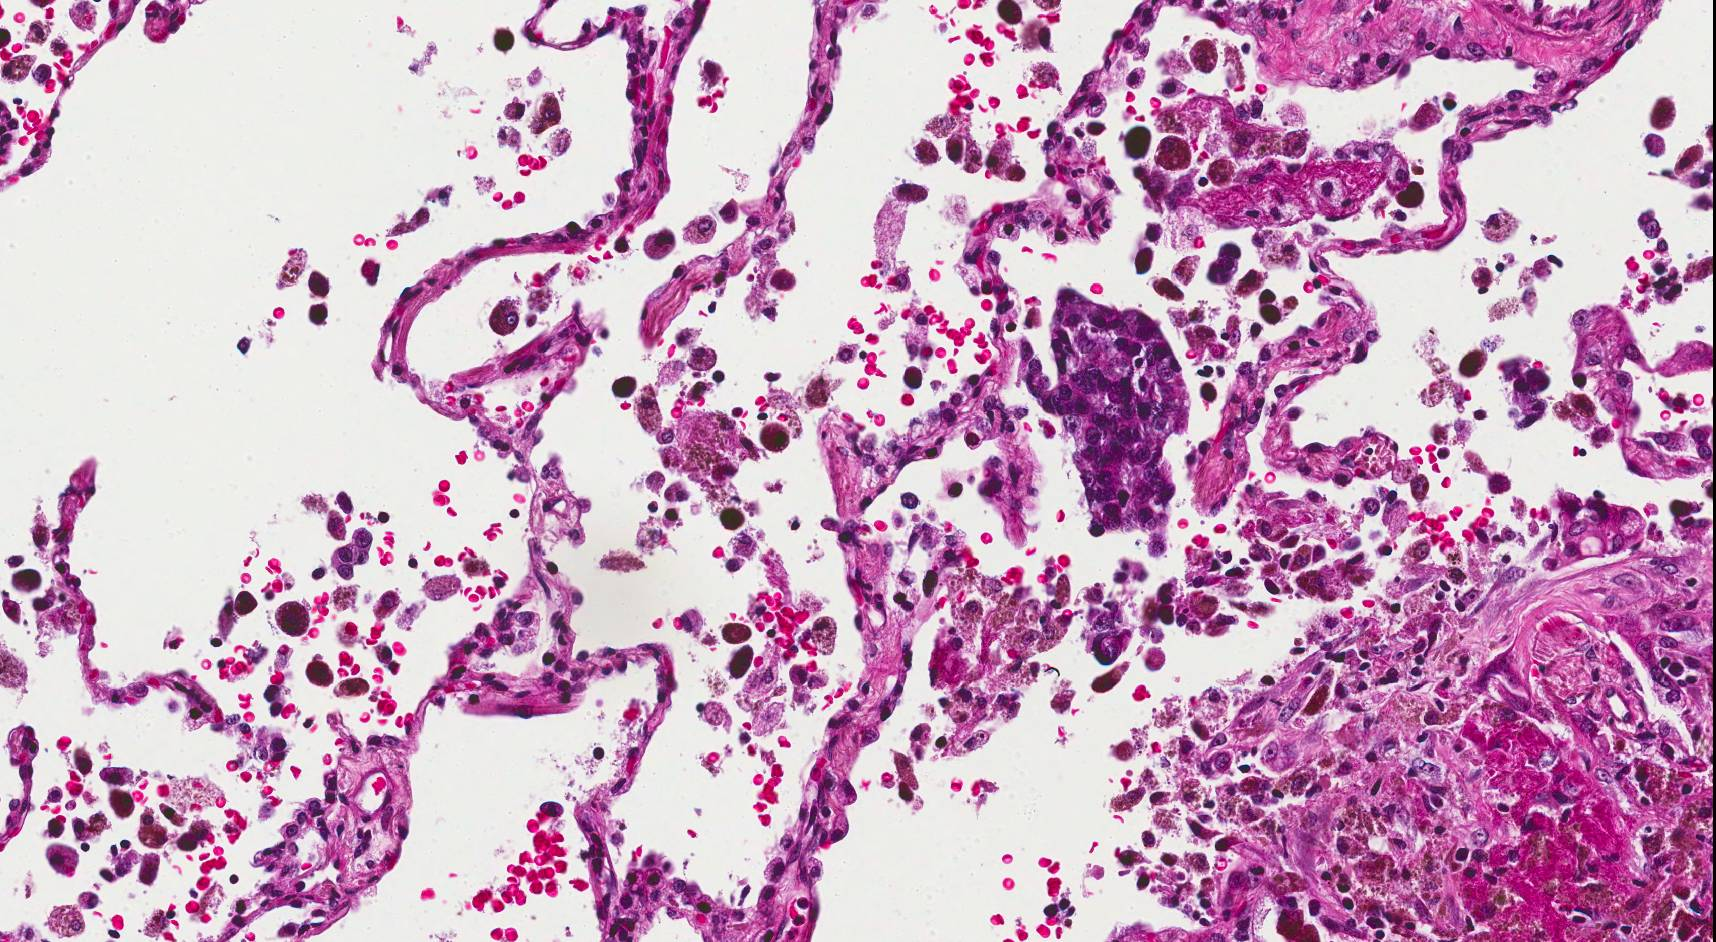stas: (1019, 281, 1191, 537), (330, 525, 373, 581)
